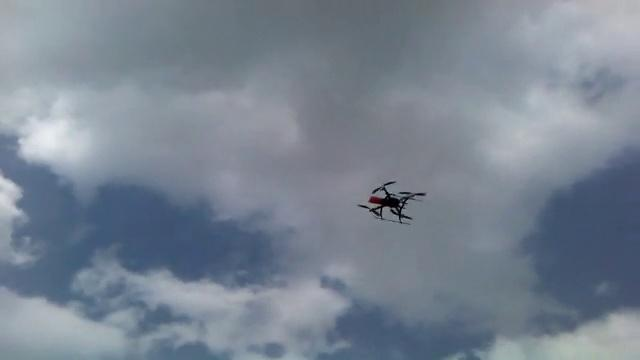drone: (354, 178, 426, 225)
